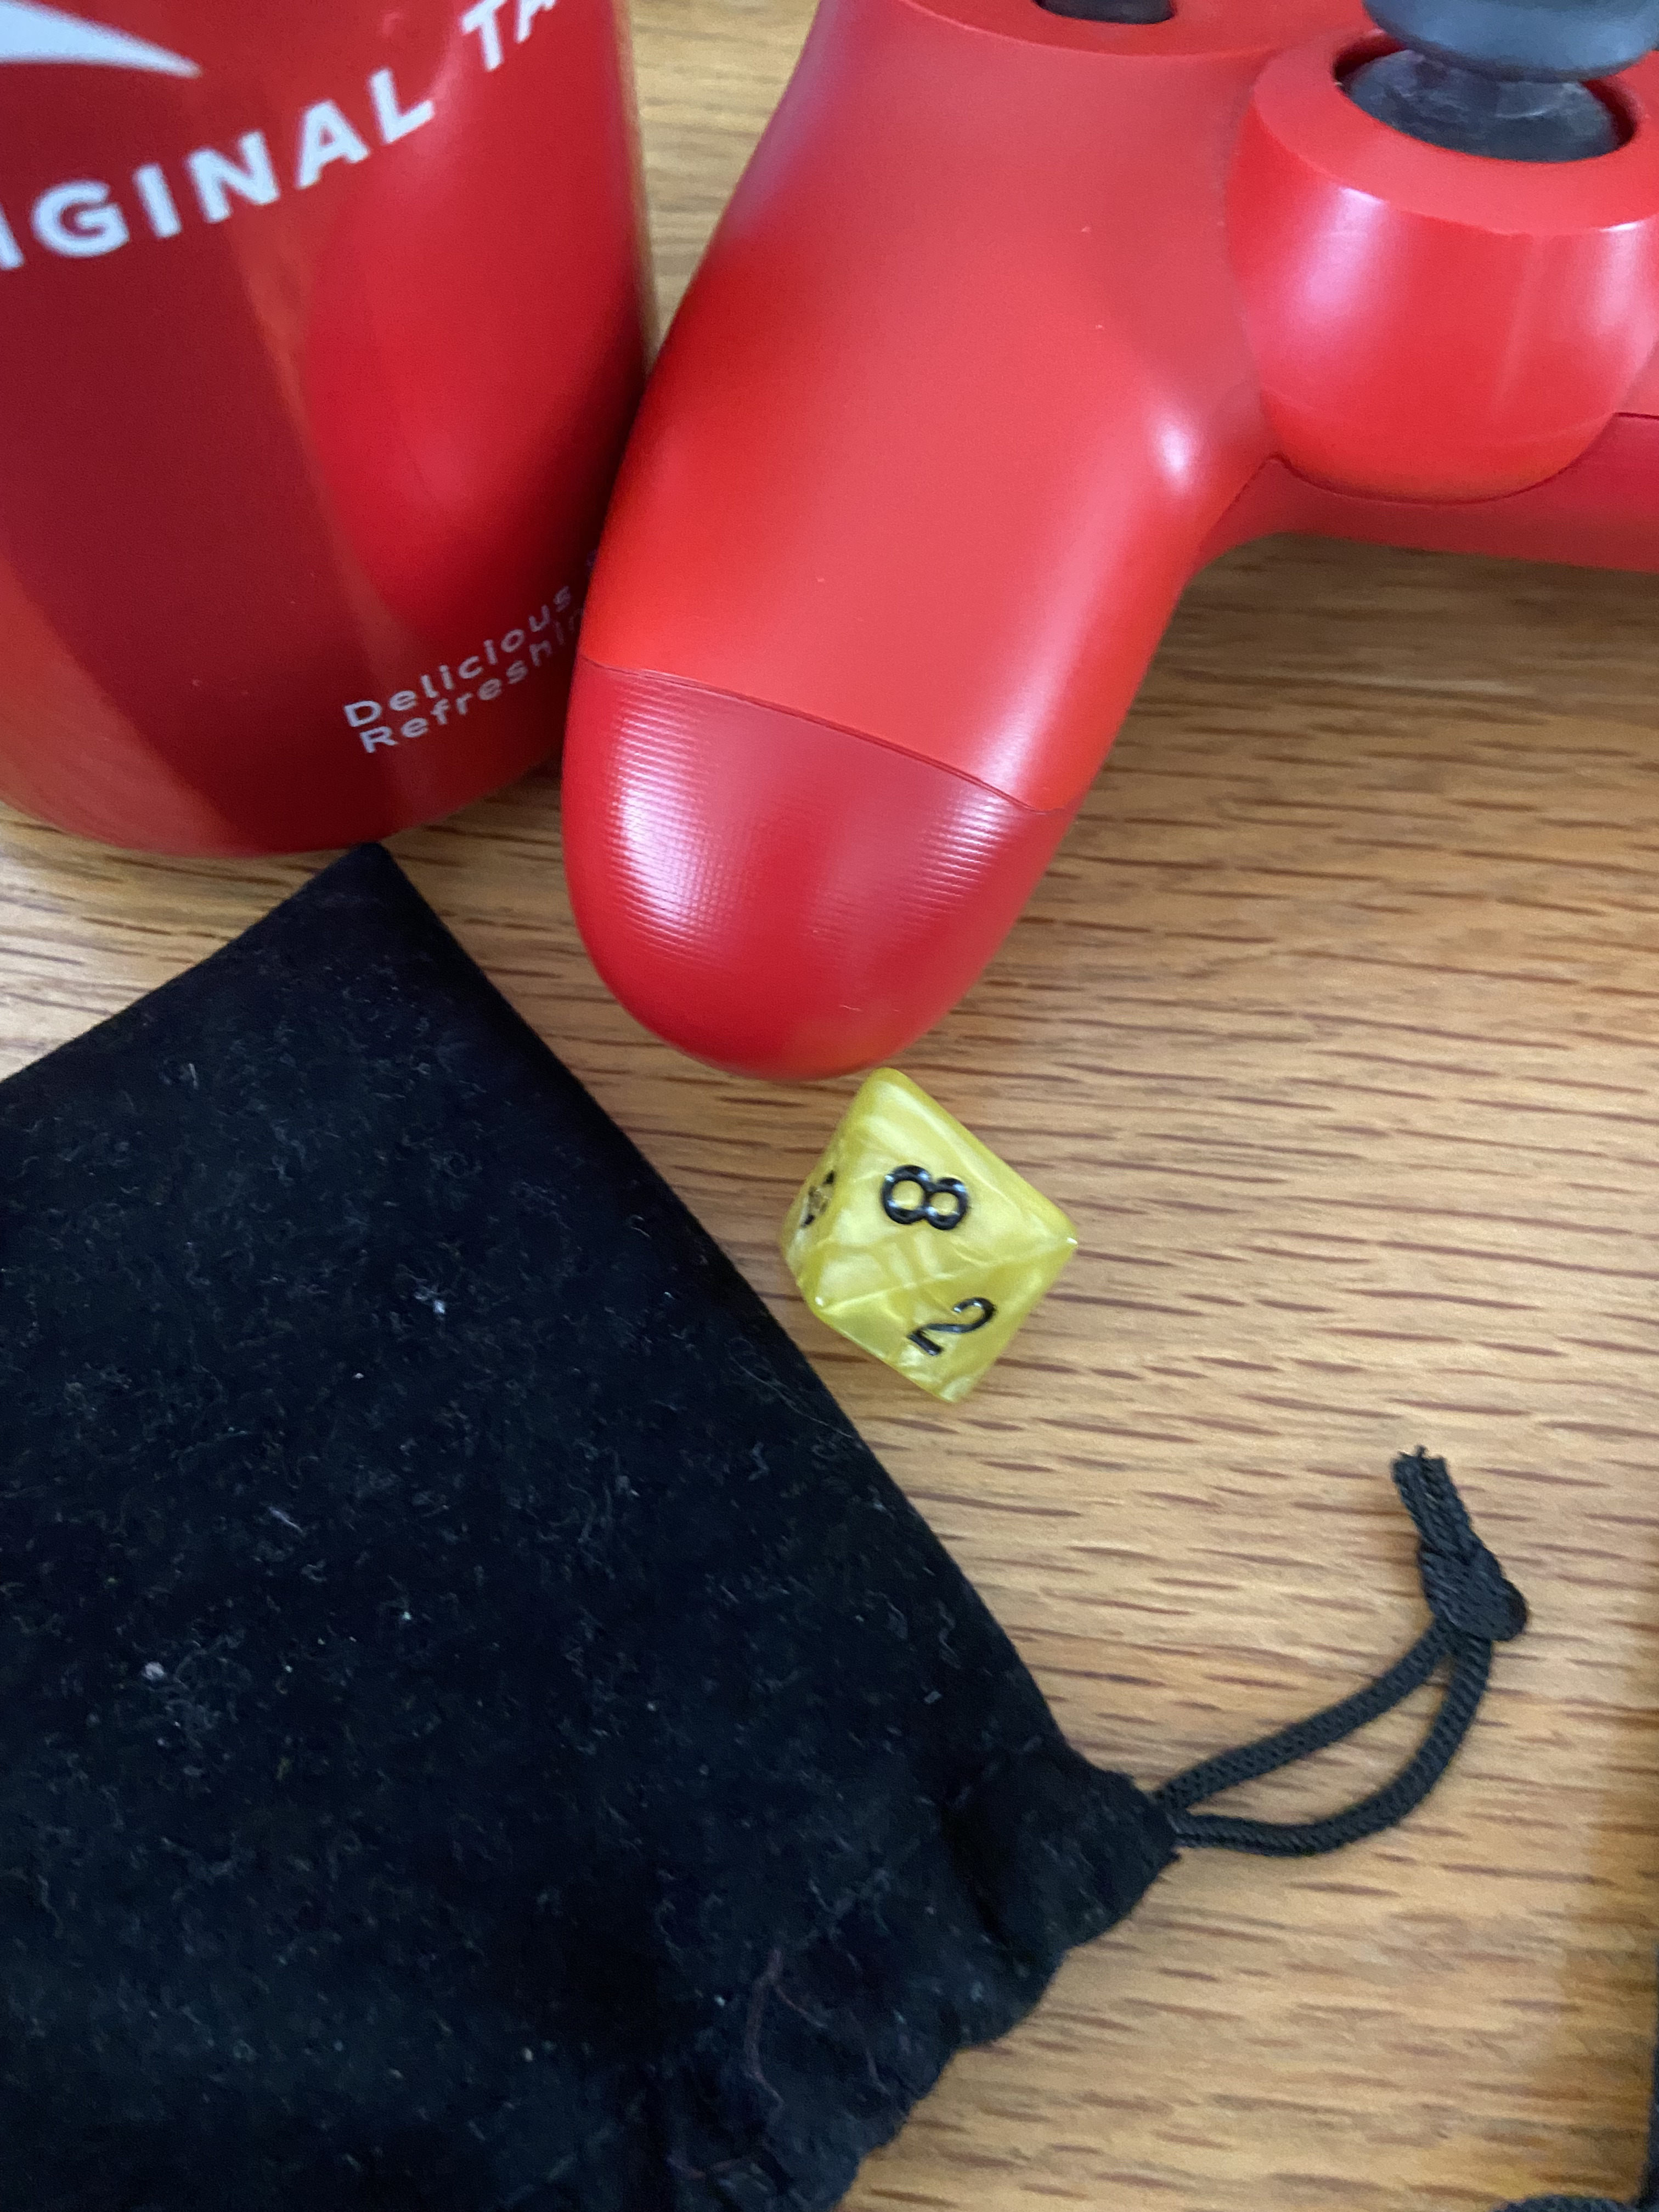eight: (690, 1010, 1126, 1428)
